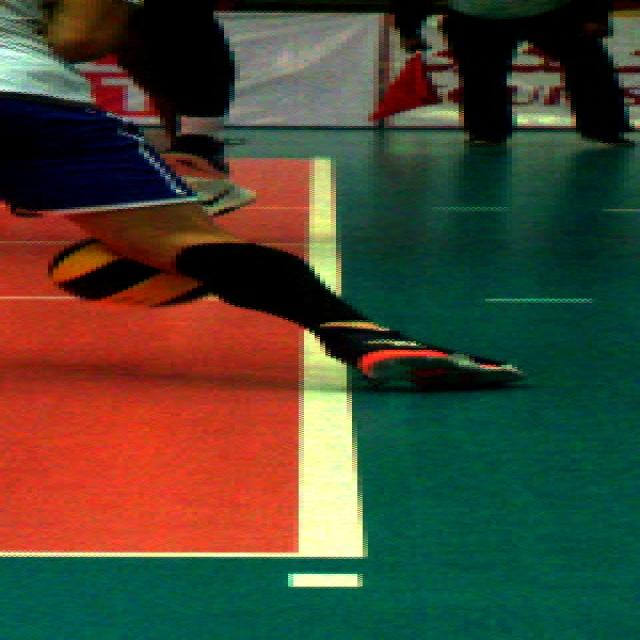Volleyball: (51, 237, 204, 307)
